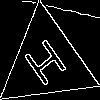H: (21, 37, 74, 96)
